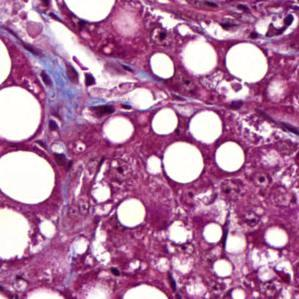steatosis: (225, 43, 269, 84), (181, 36, 216, 78), (162, 142, 199, 178), (112, 198, 150, 231), (149, 48, 178, 82), (216, 139, 244, 172)
